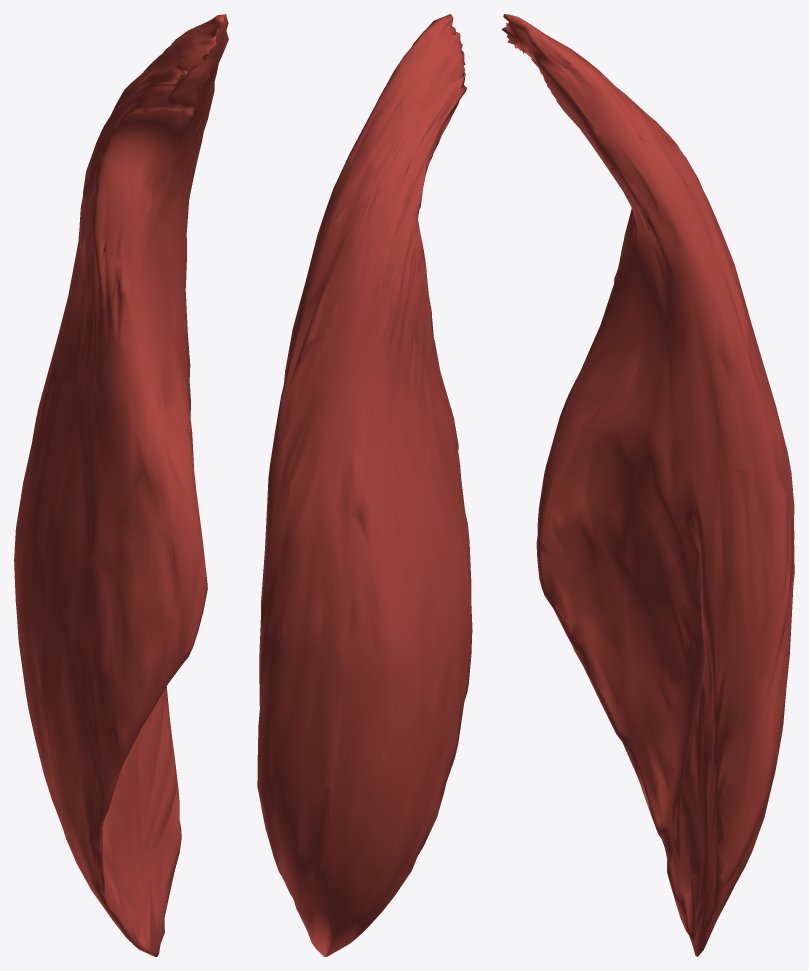
File: musculos-medial-head-of-gastrocnemius-l.glb
3 views of the same model, side by side, from view 1: azimuth 30°, elevation 25°; view 2: azimuth 150°, elevation 25°; view 3: azimuth 270°, elevation 25° (orthographic). The views are drawn at different scales.
Visible parts, largest first — view 1: Medial head of gastrocnemius.l; view 2: Medial head of gastrocnemius.l; view 3: Medial head of gastrocnemius.l.
Boxes of the visible parts, x1,y1,x2,y2 form: Medial head of gastrocnemius.l: (14,14,228,956); Medial head of gastrocnemius.l: (257,14,472,956); Medial head of gastrocnemius.l: (501,14,794,956).
Bounding box in the file's own units: 0.0511 × 0.2995 × 0.086.
